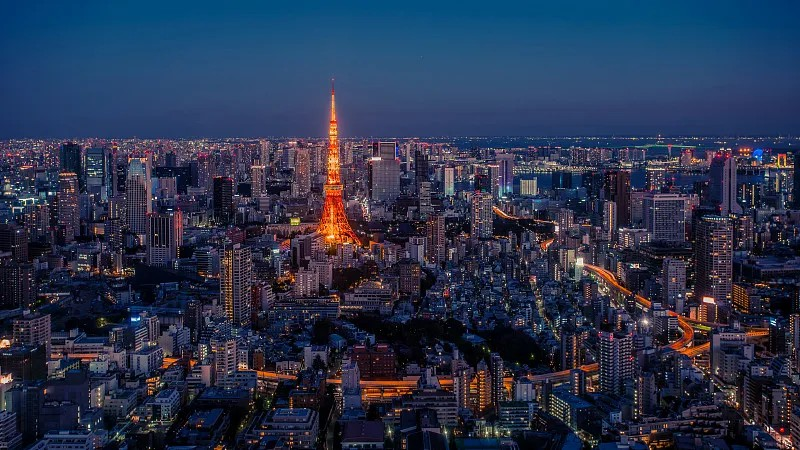Tokyo: (315, 77, 365, 252)
